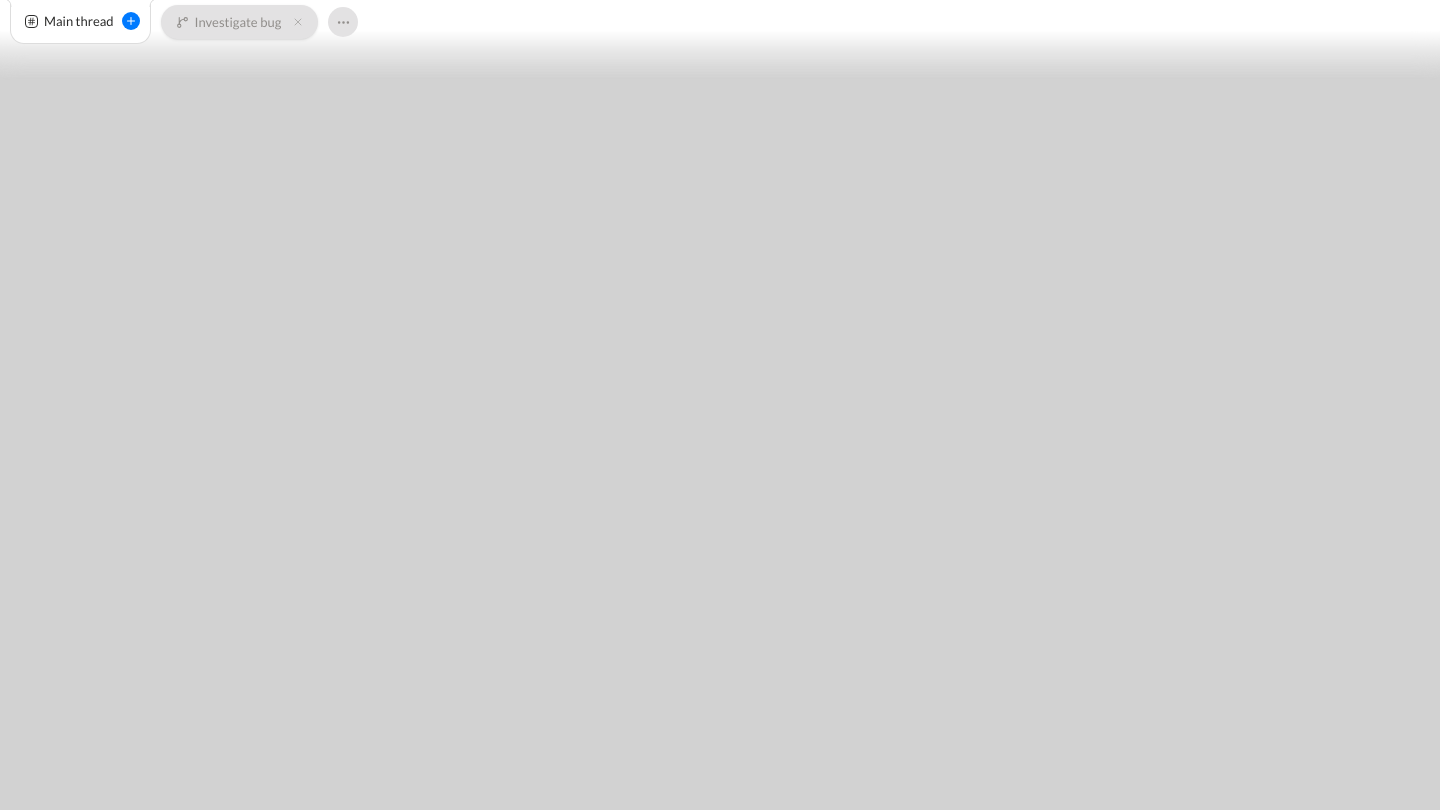
Test: ThreadTabStrip › More pill — overflow panel › Archived tab › shows Active/Archived counts and opens to Active by default
Click the button with test id "thread-tab-more". click: point(343, 22)
box: [328,7,358,37]
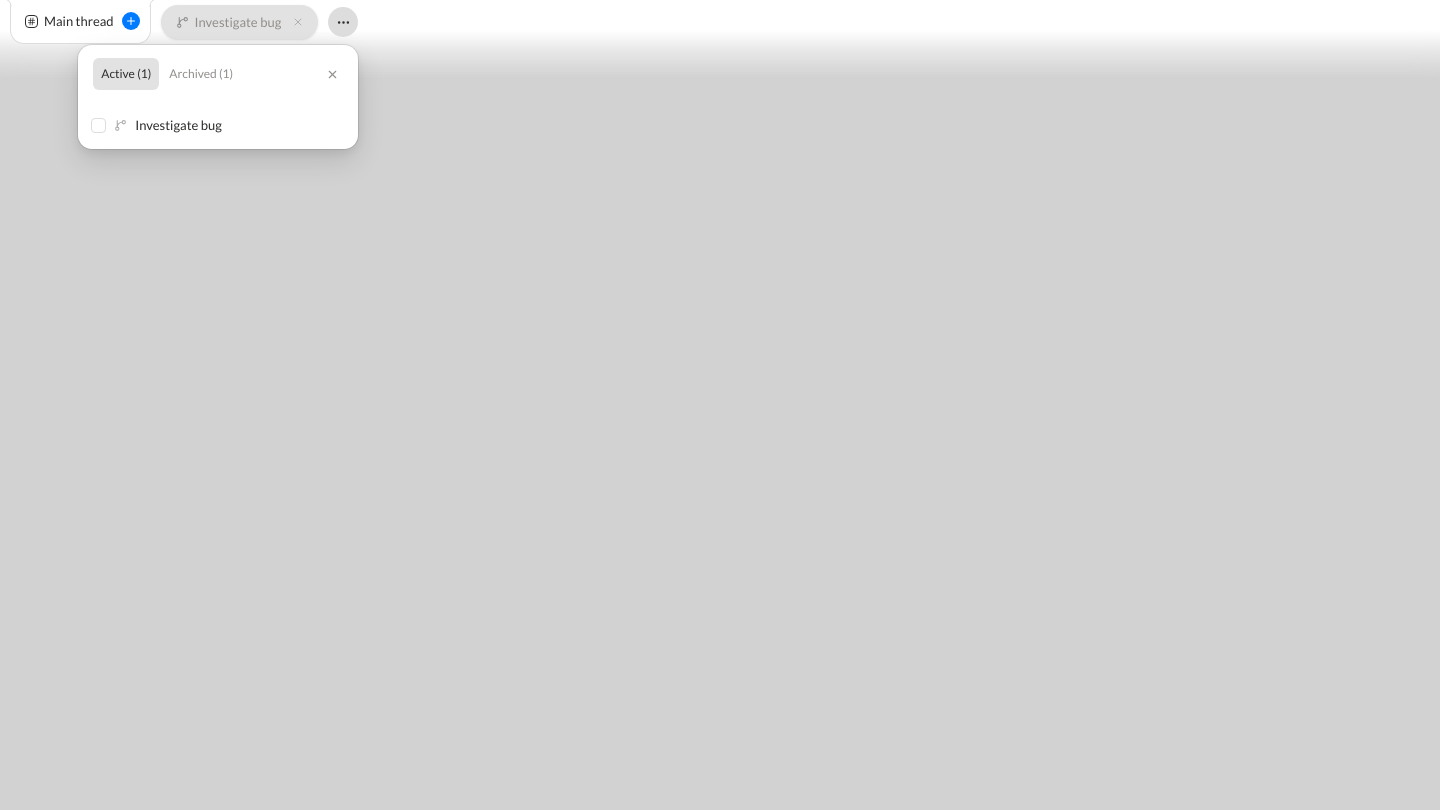
Expected: the tab with test id "thread-overflow-tab-active" reads "Active (1)", [93,58,159,90]
Expected: the tab with test id "thread-overflow-tab-archived" reads "Archived (1)", [161,58,241,90]
